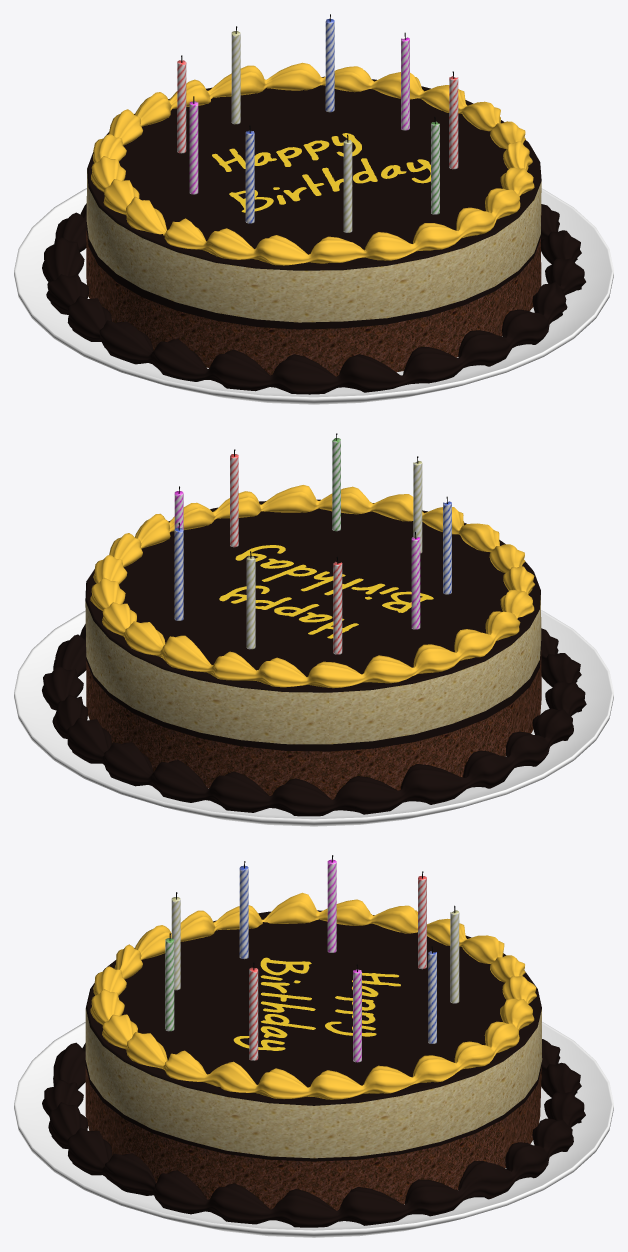
File: cake.obj
The picture shows the model from 3 angles, top to bottom: view 1: azimuth 30°, elevation 25°; view 2: azimuth 150°, elevation 25°; view 3: azimuth 270°, elevation 25°; orthographic projection.
Visible parts, largest first — view 1: cake_Cylinder, cream_Circle.001, yellow-cream_Circle, dish_Cylinder.028, Plane, candle3_Cylinder.006, candle4_Cylinder.001, candle5_Cylinder.025, candle2_Cylinder.007, candle9_Cylinder.013, candle6_Cylinder.024, candle7_Cylinder.019 (+2 smaller); view 2: cake_Cylinder, cream_Circle.001, yellow-cream_Circle, dish_Cylinder.028, Plane, candle2_Cylinder.007, candle3_Cylinder.006, candle5_Cylinder.025, candle4_Cylinder.001, candle8_Cylinder.018, candle9_Cylinder.013, candle6_Cylinder.024 (+1 smaller); view 3: cake_Cylinder, cream_Circle.001, yellow-cream_Circle, dish_Cylinder.028, Plane, candle5_Cylinder.025, candle8_Cylinder.018, candle9_Cylinder.013, candle6_Cylinder.024, candle3_Cylinder.006, candle_Cylinder.012, candle4_Cylinder.001 (+2 smaller).
Part boxes in pixels (box(x1,y1,x2,y2)): cake_Cylinder: box(86, 76, 541, 376); cream_Circle.001: box(42, 203, 585, 394); yellow-cream_Circle: box(91, 62, 534, 265); dish_Cylinder.028: box(14, 188, 613, 404); Plane: box(212, 133, 430, 212); candle3_Cylinder.006: box(231, 31, 240, 124); candle4_Cylinder.001: box(177, 60, 186, 153); candle5_Cylinder.025: box(189, 101, 198, 194); candle2_Cylinder.007: box(325, 19, 334, 112); candle9_Cylinder.013: box(449, 76, 458, 169); candle6_Cylinder.024: box(245, 130, 254, 223); candle7_Cylinder.019: box(343, 139, 352, 232); cake_Cylinder: box(85, 499, 541, 799); cream_Circle.001: box(42, 624, 586, 816); yellow-cream_Circle: box(90, 485, 534, 688); dish_Cylinder.028: box(14, 610, 613, 826); Plane: box(219, 545, 433, 638); candle2_Cylinder.007: box(174, 528, 183, 620); candle3_Cylinder.006: box(246, 556, 255, 649); candle5_Cylinder.025: box(411, 537, 420, 629); candle4_Cylinder.001: box(333, 561, 342, 654); candle8_Cylinder.018: box(332, 438, 340, 531); candle9_Cylinder.013: box(230, 454, 238, 547); candle6_Cylinder.024: box(443, 501, 451, 594); cake_Cylinder: box(85, 910, 542, 1210); cream_Circle.001: box(42, 1039, 585, 1227); yellow-cream_Circle: box(90, 892, 536, 1099); dish_Cylinder.028: box(14, 1022, 613, 1237); Plane: box(233, 957, 400, 1050); candle5_Cylinder.025: box(327, 859, 336, 952); candle8_Cylinder.018: box(165, 938, 174, 1031); candle9_Cylinder.013: box(249, 967, 258, 1060); candle6_Cylinder.024: box(239, 865, 248, 959); candle3_Cylinder.006: box(450, 910, 459, 1003); candle_Cylinder.012: box(353, 969, 361, 1062); candle4_Cylinder.001: box(418, 876, 426, 969).
Bounding box in the file's own units: 2.4 × 0.9593 × 2.4.
8 materials, 4 textured.
